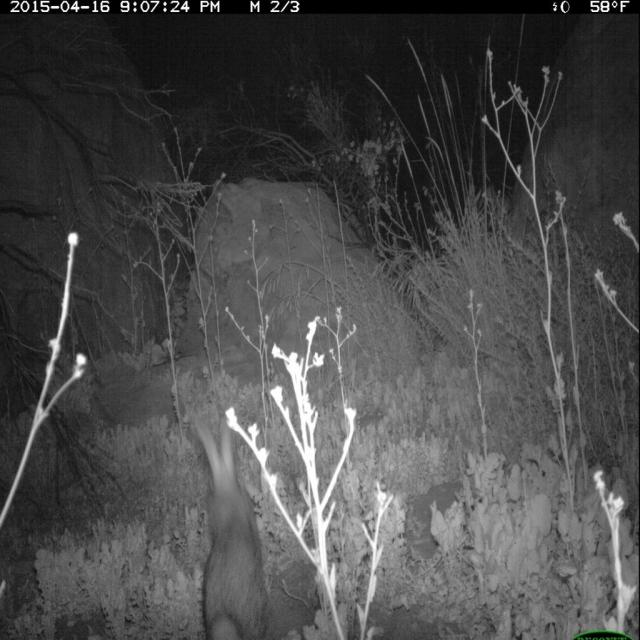rabbit: (182, 399, 276, 640)
